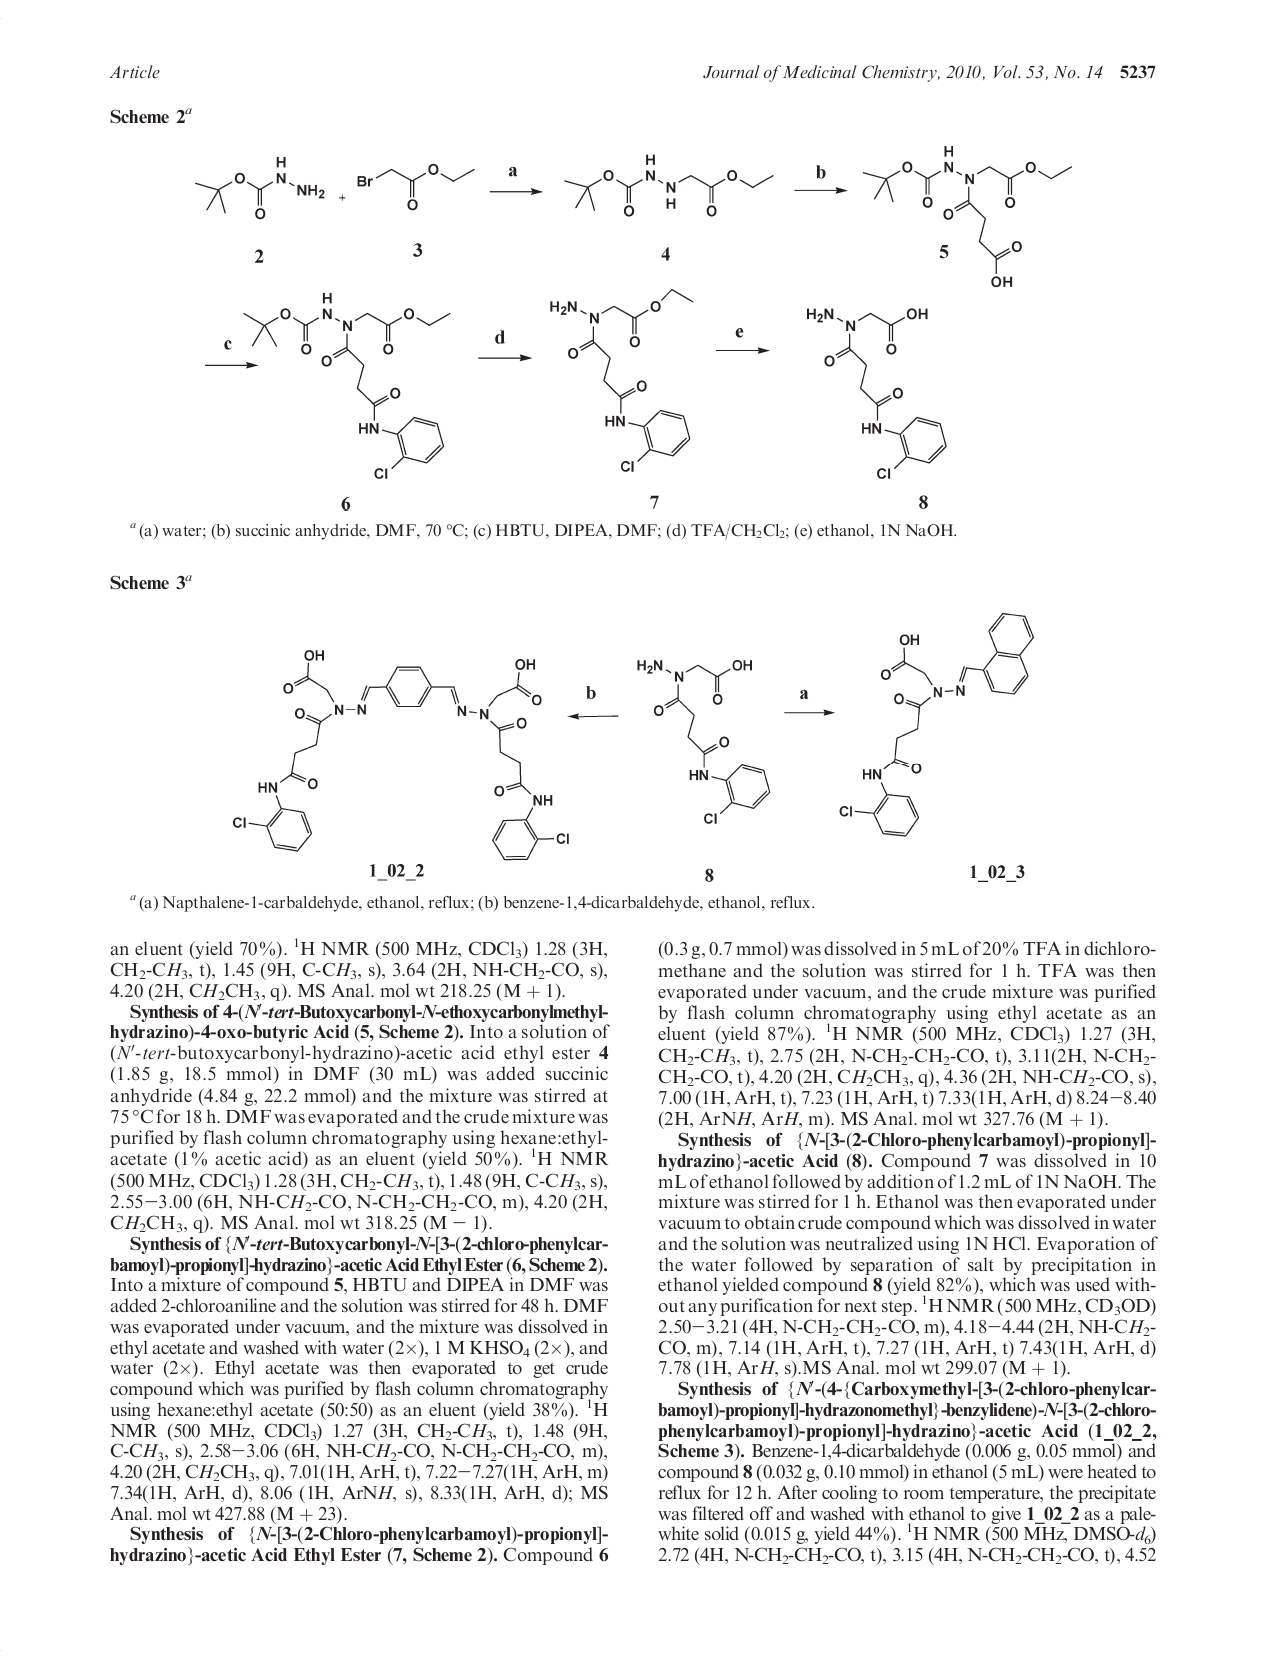exist_molecular: (231, 649, 570, 862), (839, 610, 1036, 838), (242, 289, 453, 480), (860, 144, 1075, 290), (547, 286, 696, 476), (805, 305, 949, 481), (634, 656, 773, 825), (564, 153, 774, 217), (193, 152, 326, 219), (354, 164, 475, 211)
